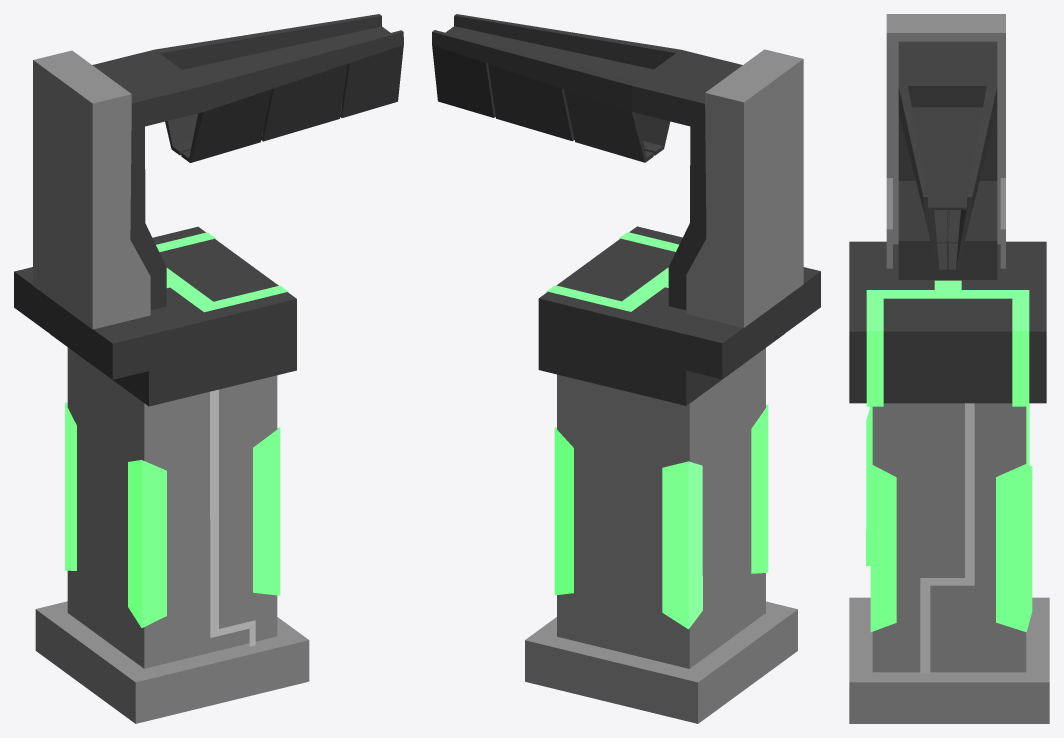
File: tower1.fbx
3 views of the same model, side by side, from view 1: azimuth 30°, elevation 25°; view 2: azimuth 150°, elevation 25°; view 3: azimuth 270°, elevation 25° (orthographic).
Parts seen in each view (by area): view 1: Cube.003; view 2: Cube.003; view 3: Cube.003.
Part boxes in pixels (x1=…): Cube.003: x1=14, y1=14, x2=403, y2=723; Cube.003: x1=432, y1=14, x2=820, y2=723; Cube.003: x1=849, y1=14, x2=1049, y2=723.
Size of the model in its own units: 250 by 844 by 477.
